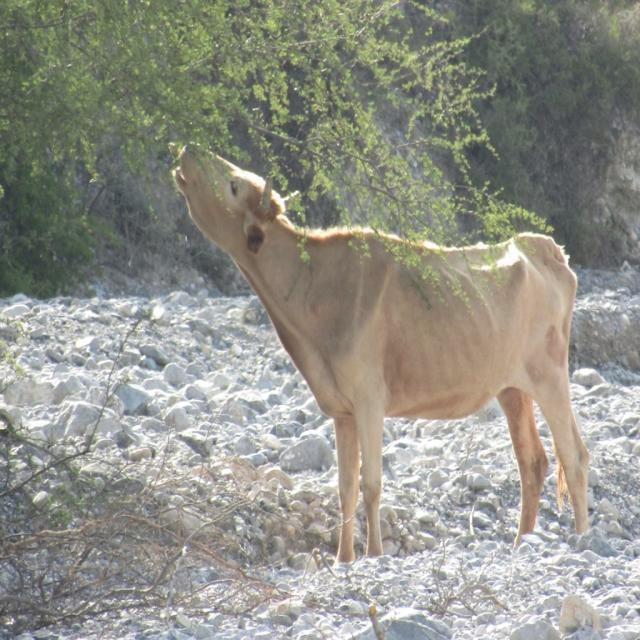cow: (176, 148, 589, 561)
